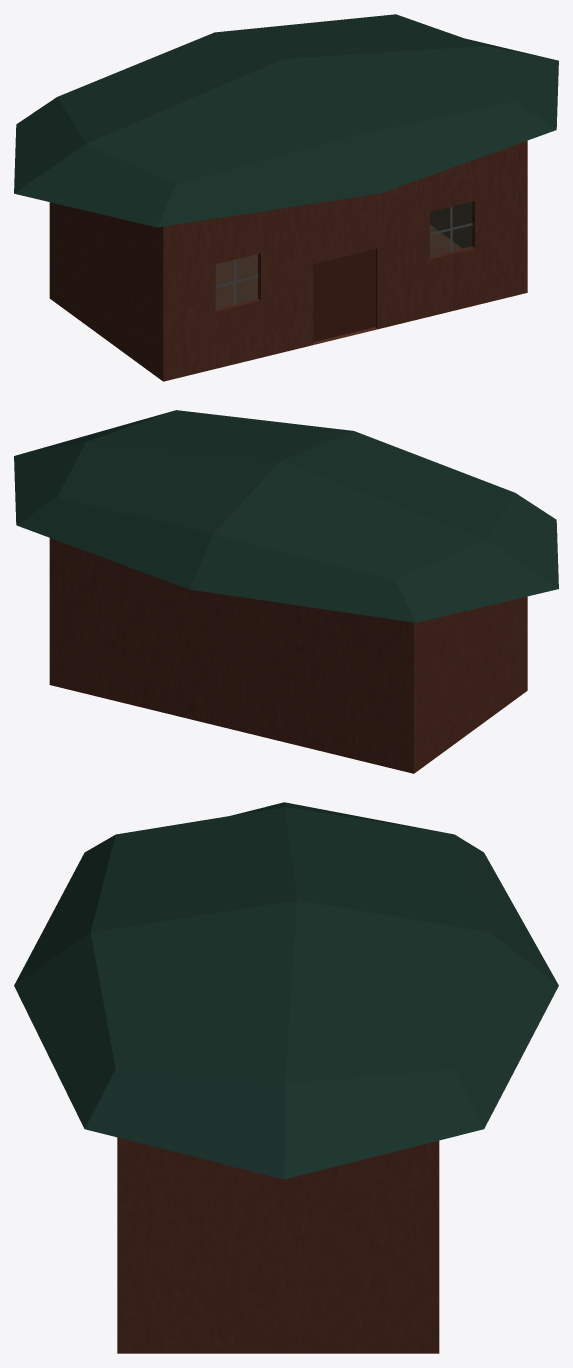
Rendered from Obstaculo_Casa.fbx.
3 renders of one model, top to bottom at view 1: azimuth 30°, elevation 25°; view 2: azimuth 150°, elevation 25°; view 3: azimuth 270°, elevation 25°, orthographic. The views are drawn at different scales.
Visible parts, largest first — view 1: casa; view 2: casa; view 3: casa.
Part boxes in pixels (x1,y1,x2,y2): casa: (14,14,558,381); casa: (14,410,558,773); casa: (14,802,558,1353).
Bounding box in the file's own units: 488 × 198 × 298.
